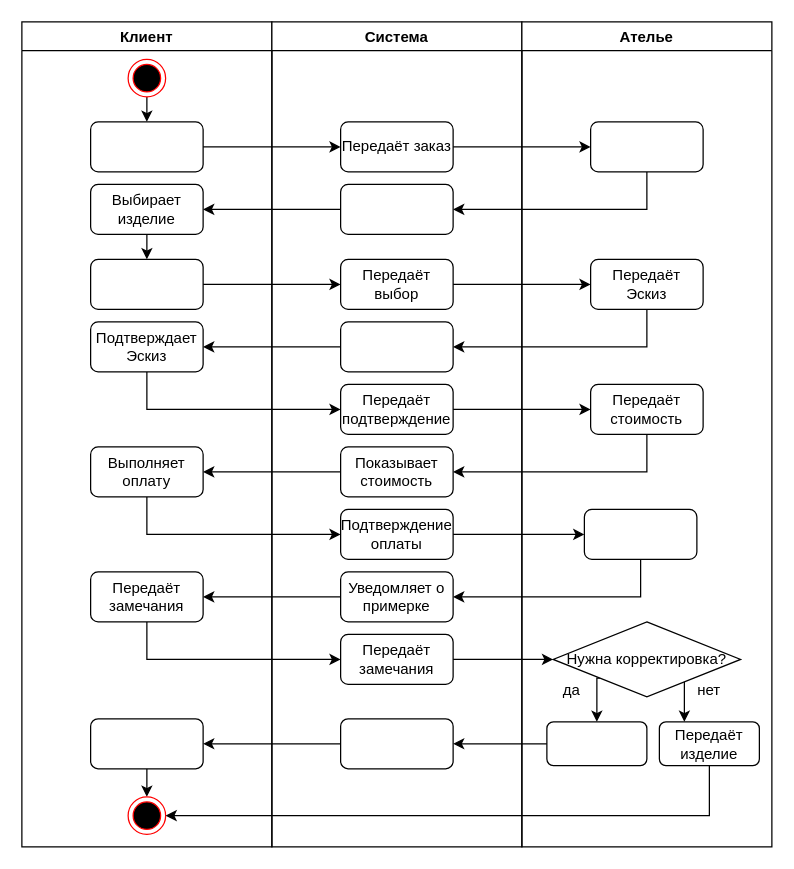
Some shapes in this 794 by 869 pixel diagram are drawn without their labels. The shapes that lost their labels are listed below. From the top down, each one's centre as x and y in pixels, then its label:
point (146, 146): Вводит заказ
point (646, 146): Передаёт варианты изделий
point (396, 208): Показывает варианты изделий
point (146, 283): Вводит мерки
point (396, 346): Показывает эскиз
point (640, 533): Передаёт изделие на примерку
point (146, 743): Уведомляет о готовности
point (396, 743): Передаёт готове изделие
point (596, 743): Корректирует изделие
